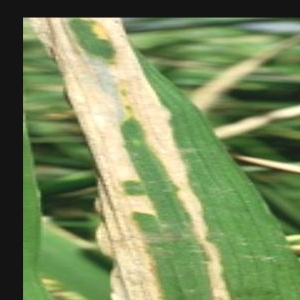Leaf_Blast: (74, 20, 275, 300)
